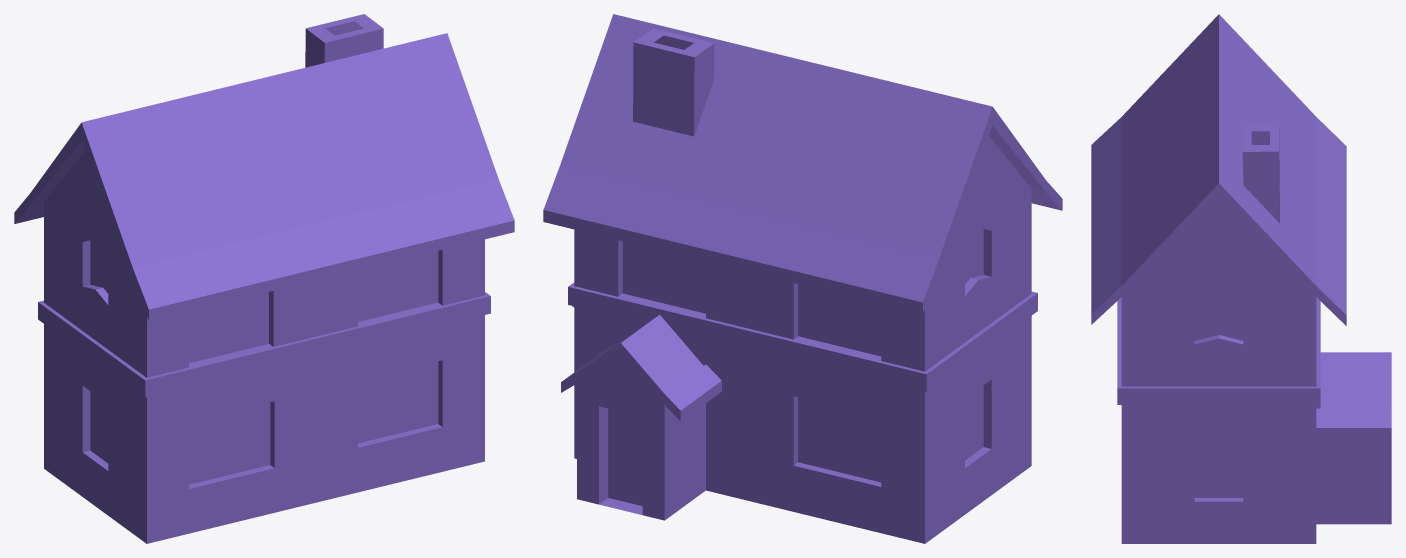
Rendered from SnowVillageBld1.fbx.
The picture shows the model from 3 angles, left to right: view 1: azimuth 30°, elevation 25°; view 2: azimuth 150°, elevation 25°; view 3: azimuth 270°, elevation 25°; orthographic projection. The views are drawn at different scales.
Visible parts, largest first — view 1: Cube; view 2: Cube; view 3: Cube.
Part boxes in pixels (left/top/right/bottom): Cube: left=14, top=14, right=514, bottom=543; Cube: left=543, top=14, right=1062, bottom=543; Cube: left=1091, top=14, right=1391, bottom=543.
Bounding box in the file's own units: 9.49 × 9.82 × 7.12.
